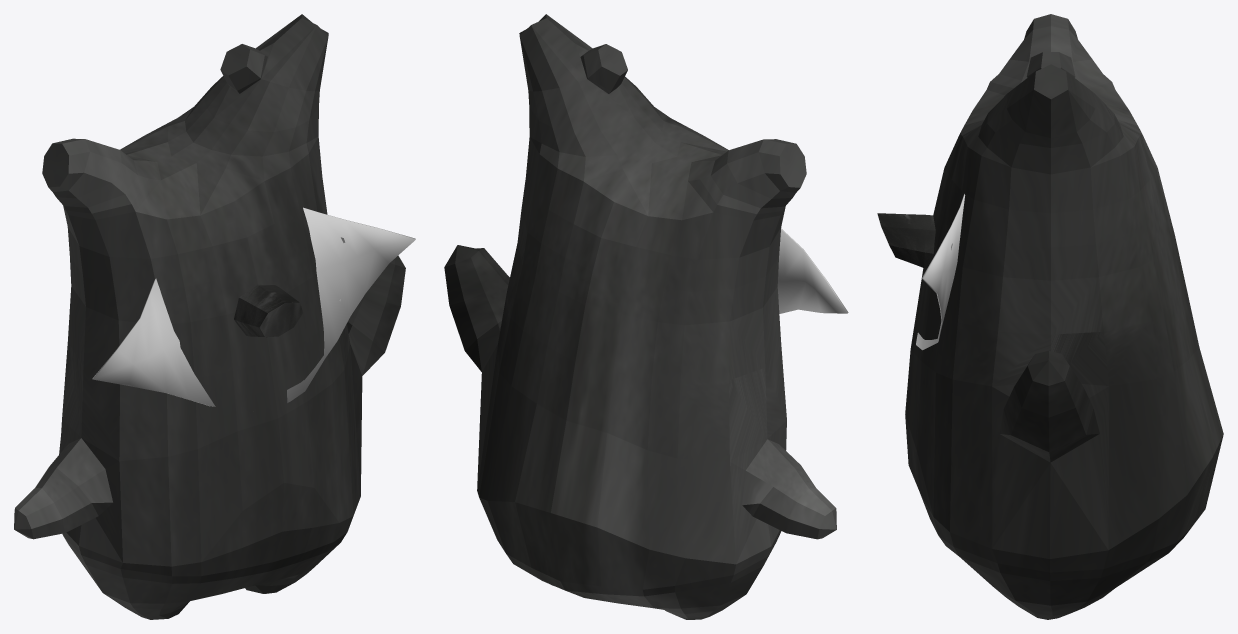
File: frame_0036.obj
3 views of the same model, side by side, from view 1: azimuth 30°, elevation 25°; view 2: azimuth 150°, elevation 25°; view 3: azimuth 270°, elevation 25° (orthographic).
Visible parts, largest first — view 1: korok, leaf, nose; view 2: korok, leaf; view 3: korok, nose, leaf.
Boxes of the visible parts, x1,y1,x2,y2 form: korok: [14, 14, 405, 619]; leaf: [92, 207, 415, 406]; nose: [234, 284, 302, 337]; korok: [444, 14, 836, 619]; leaf: [777, 228, 848, 313]; korok: [905, 14, 1223, 619]; nose: [877, 213, 935, 268]; leaf: [916, 194, 965, 350].
Bounding box in the file's own units: 1.66 × 2.31 × 1.27.
